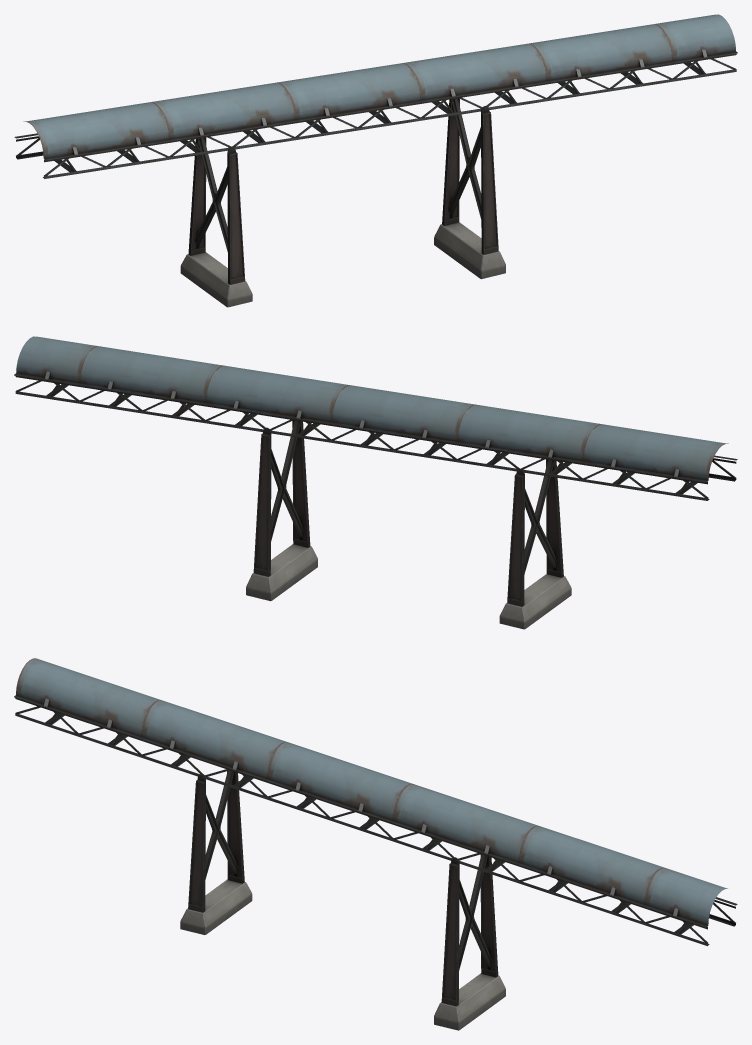
3 renders of one model, top to bottom at view 1: azimuth 30°, elevation 25°; view 2: azimuth 150°, elevation 25°; view 3: azimuth 330°, elevation 25°, orthographic.
Parts seen in each view (by area): view 1: body0_model0_lod0_mesh0, body0_model0_lod0_mesh1; view 2: body0_model0_lod0_mesh0, body0_model0_lod0_mesh1; view 3: body0_model0_lod0_mesh0, body0_model0_lod0_mesh1.
Part boxes in pixels (<box>): body0_model0_lod0_mesh0: <box>14,14,737,178</box>; body0_model0_lod0_mesh1: <box>180,98,505,307</box>; body0_model0_lod0_mesh0: <box>14,336,737,500</box>; body0_model0_lod0_mesh1: <box>246,420,571,629</box>; body0_model0_lod0_mesh0: <box>14,658,737,946</box>; body0_model0_lod0_mesh1: <box>180,770,505,1030</box>.
Bounding box in the file's own units: 1409 × 472 × 167.
Materials: 2 (2 with a texture image).
